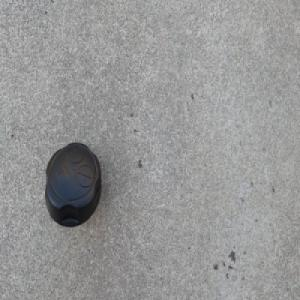FuelCap: (43, 139, 102, 228)
